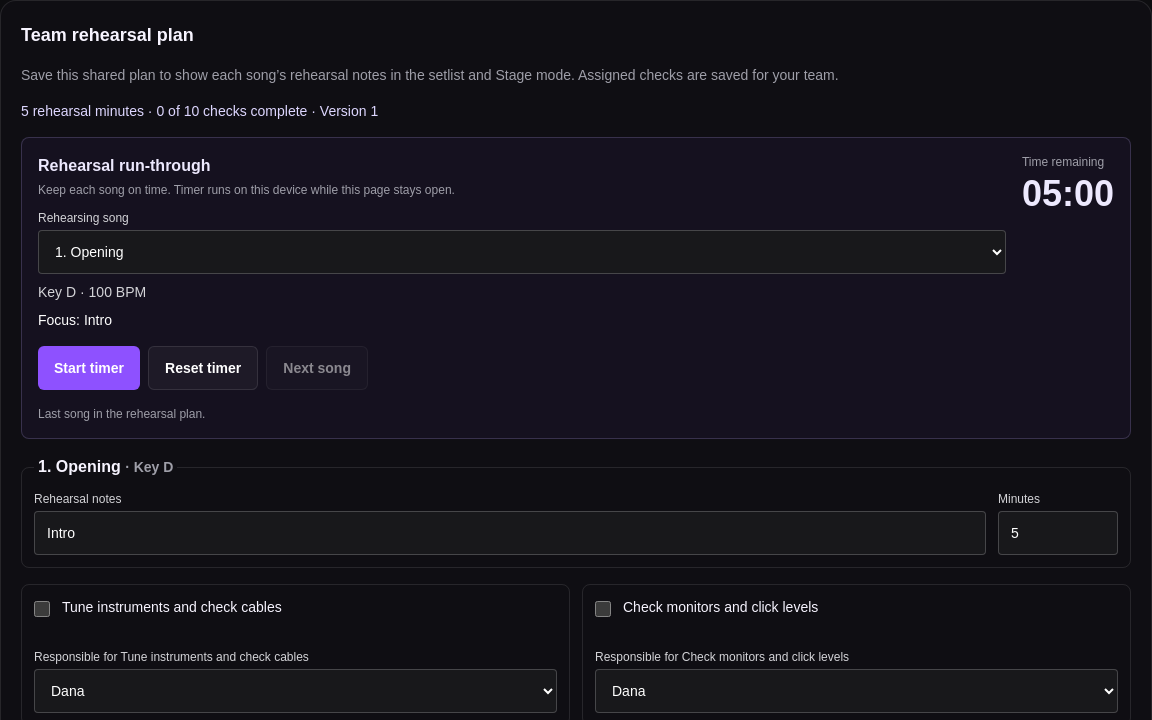
Test case: saved team preparation › saves a manager draft without losing focus on a stale response
Step 1. Replace the text in the field named "Rehearsal notes for Opening" with "Ending harmony" → (510, 533), box [34,511,986,555]
(page scrolled)
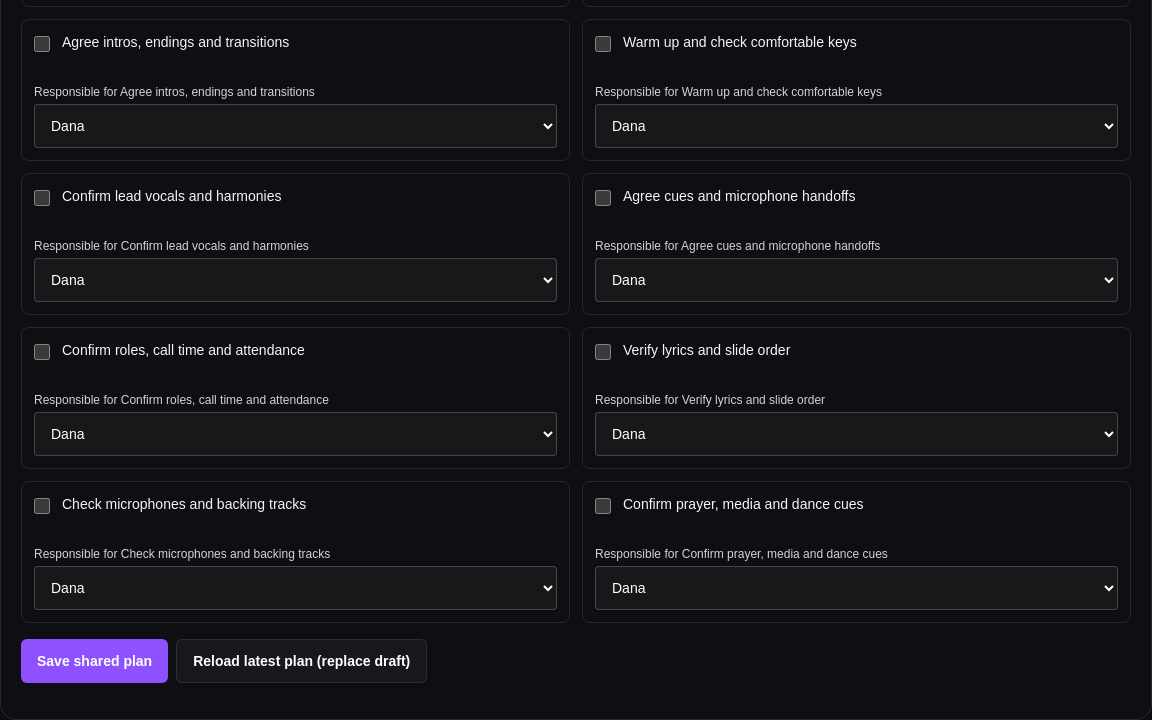
Step 2. Click the button "Save shared plan" → (95, 661), box [21,639,168,683]
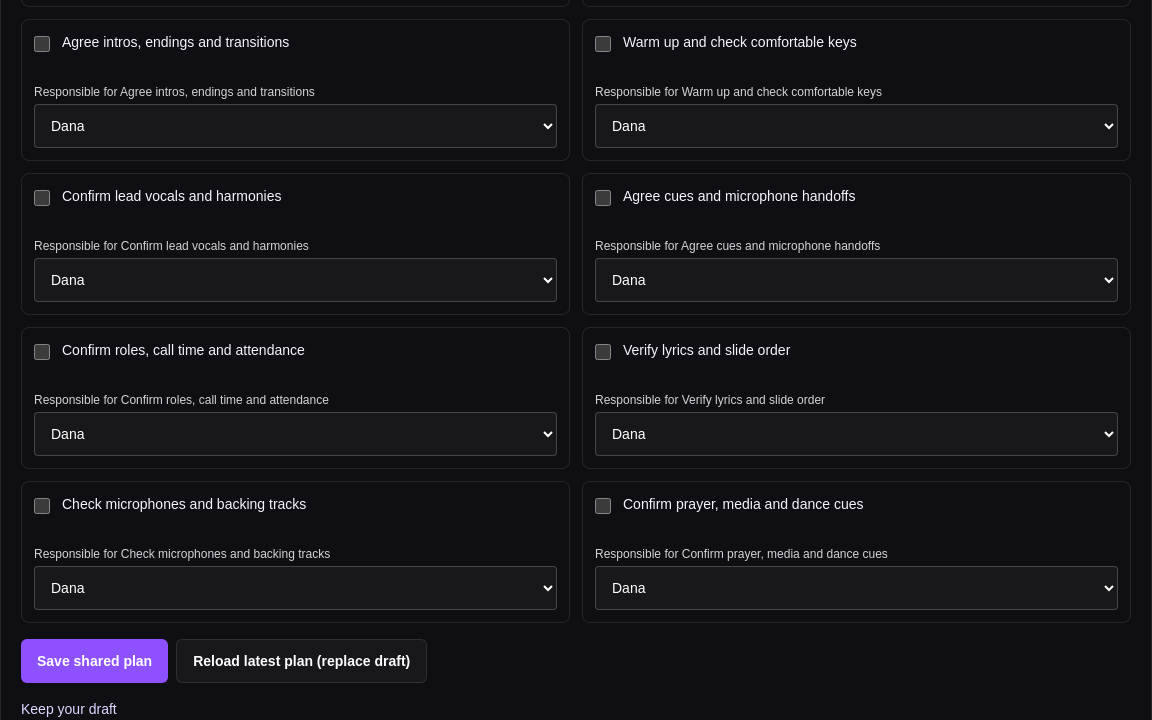
Expected: the message reads "Keep your draft", [21,701,117,717]
